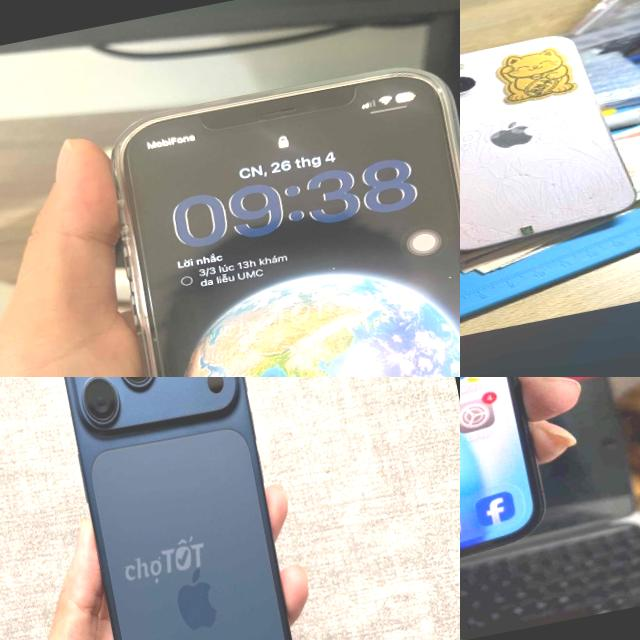gen_12_13: (82, 49, 460, 377), (460, 377, 560, 625)
gen_14: (460, 22, 640, 257)
gen_17: (43, 377, 327, 640)
